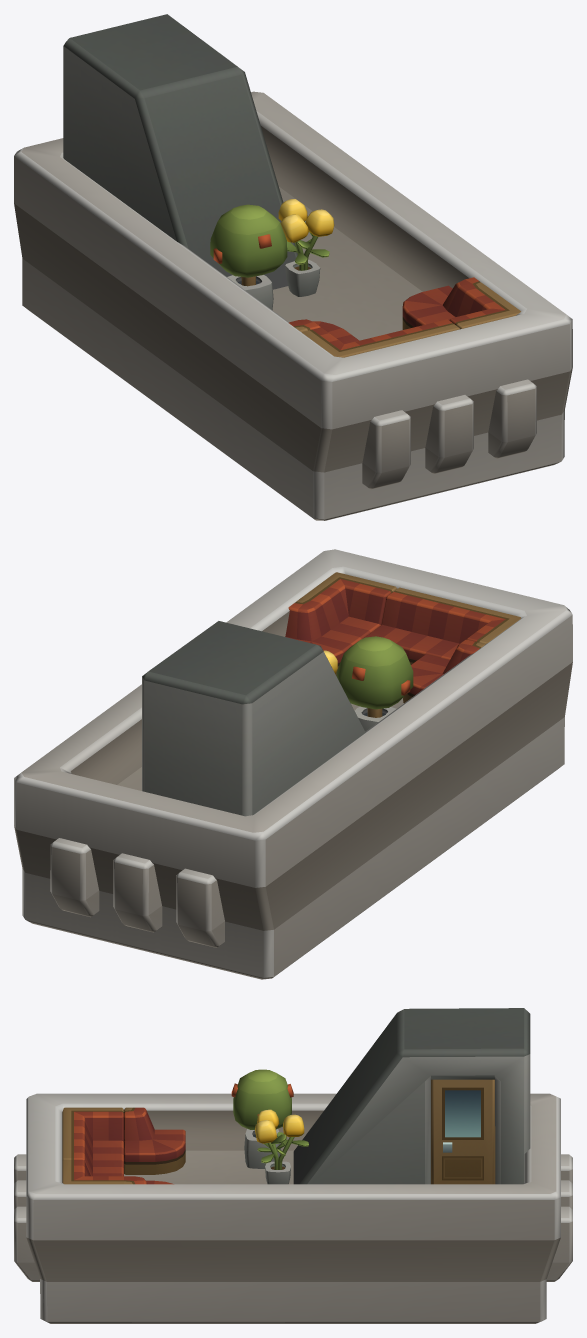
File: appartment_type1_roof_type2_x2_deco.fbx
The picture shows the model from 3 angles, top to bottom: view 1: azimuth 30°, elevation 25°; view 2: azimuth 150°, elevation 25°; view 3: azimuth 270°, elevation 25°; orthographic projection. The views are drawn at different scales.
Visible parts, largest first — view 1: appartment_type1_roof_type2_x2_deco; view 2: appartment_type1_roof_type2_x2_deco; view 3: appartment_type1_roof_type2_x2_deco, door_wood_rooftop_doorway.
Part boxes in pixels (<box>): appartment_type1_roof_type2_x2_deco: <box>14,14,572,520</box>; appartment_type1_roof_type2_x2_deco: <box>14,549,572,979</box>; appartment_type1_roof_type2_x2_deco: <box>14,1008,572,1323</box>; door_wood_rooftop_doorway: <box>431,1079,495,1184</box>.
Size of the model in its own units: 400 by 410 by 907.
